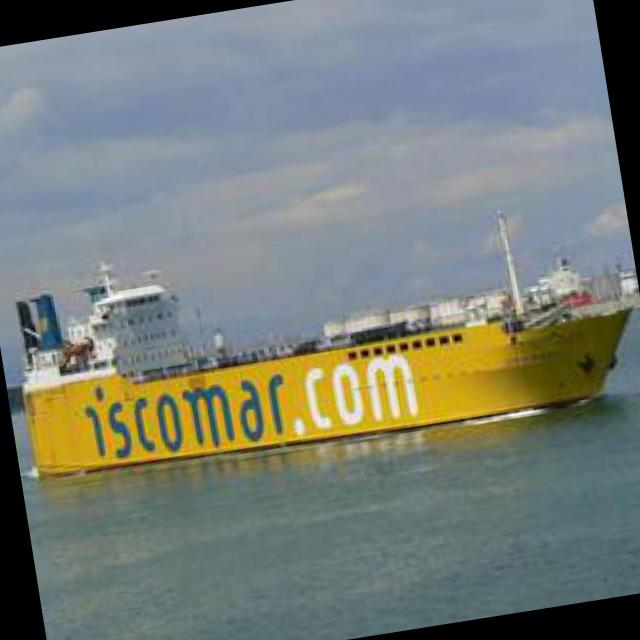boat: (1, 210, 640, 495)
